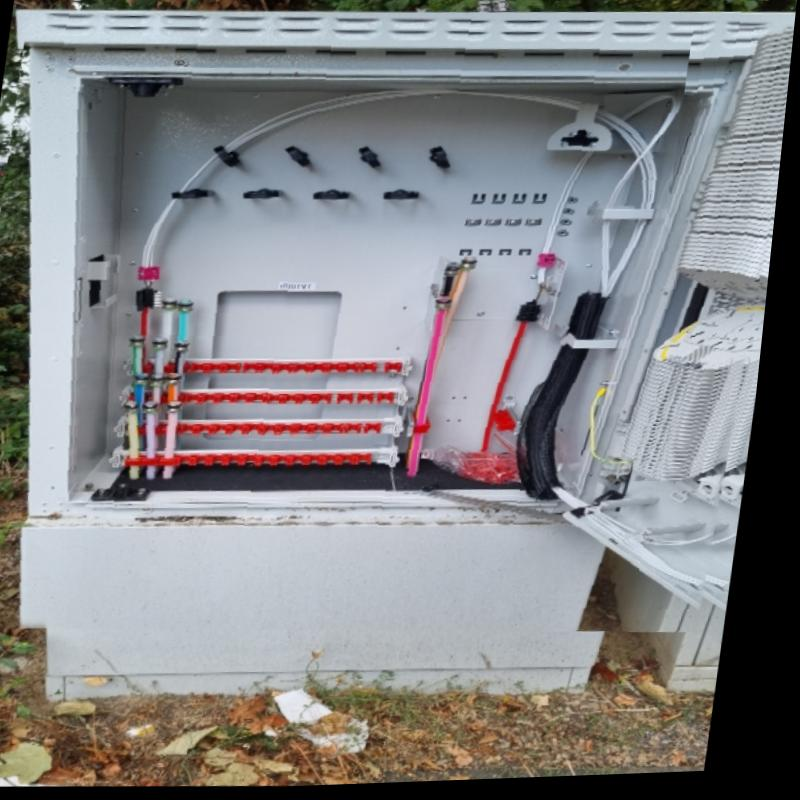NT-Gehause: (28, 13, 797, 637)
Spleiskassetten: (642, 32, 796, 486)
